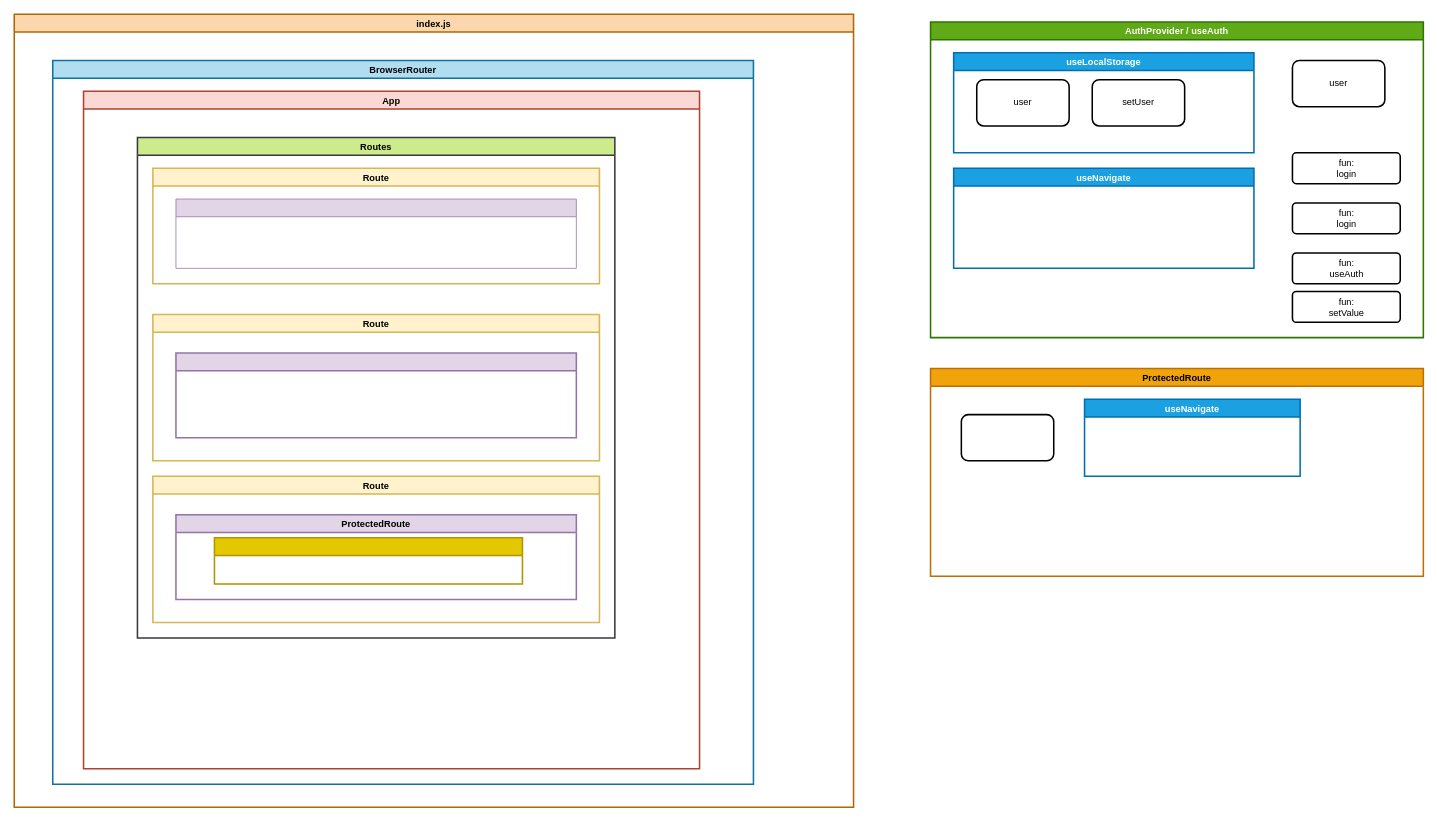
Some shapes in this 1437 by 821 pixel diagram are drawn without their labels. The shapes that lost their labels are listed below. From the top down, each one's centre as x and y in pixels, then its label:
the point at 375,233: HomePage
the point at 376,395: LoginPage
the point at 1007,437: useAuth
the point at 368,560: ProfilePage
